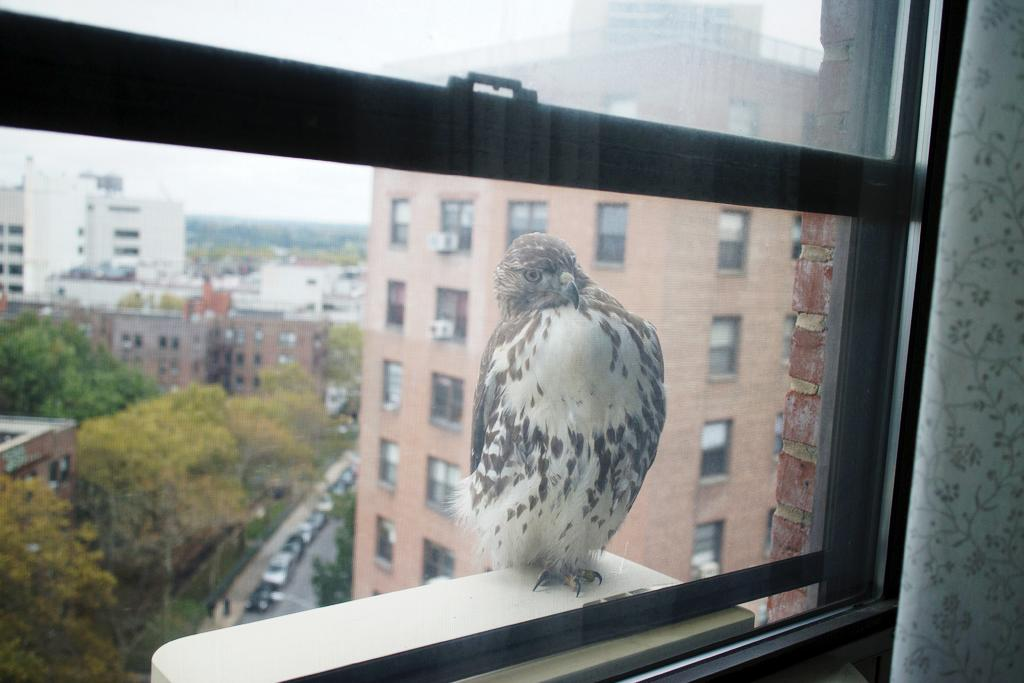Owl: (447, 237, 684, 598)
